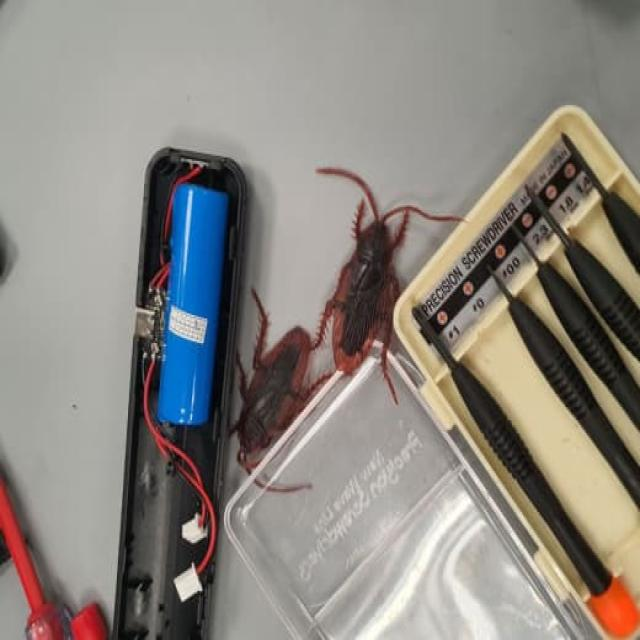Cockroach: (315, 162, 436, 386), (214, 310, 330, 488)
